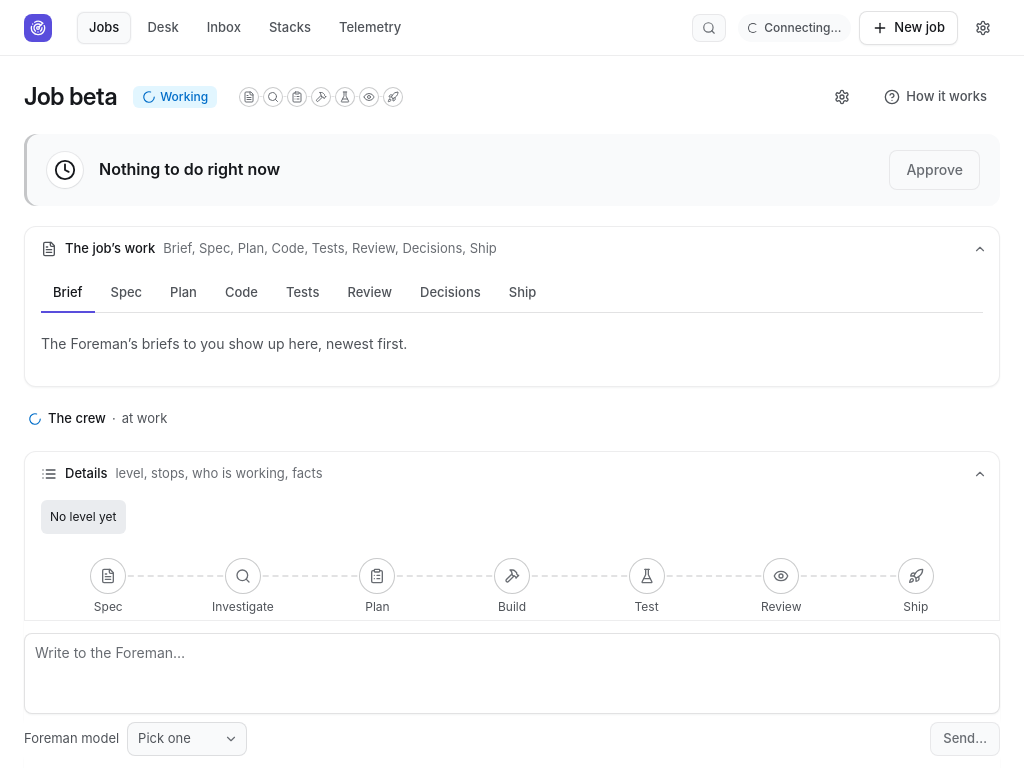
Test case: App shell › shows a job full width: the Job page with its seven stops, no Jobs or Preview pane
Expected: the heading "Job beta" is shown, [24,82,117,112]
Expected: the links read "Jobs", "Desk", "Inbox", "Stacks", "Telemetry", in this order, [76,10,132,44]; [147,19,179,35]; [207,19,241,35]; [269,19,311,35]; [339,19,401,35]
# The gear: Settings, the Crew-dex in Play, the flow map, the Table, the keys and every action.
Click the button named "Settings and more": (983, 28) [966,10,1000,44]
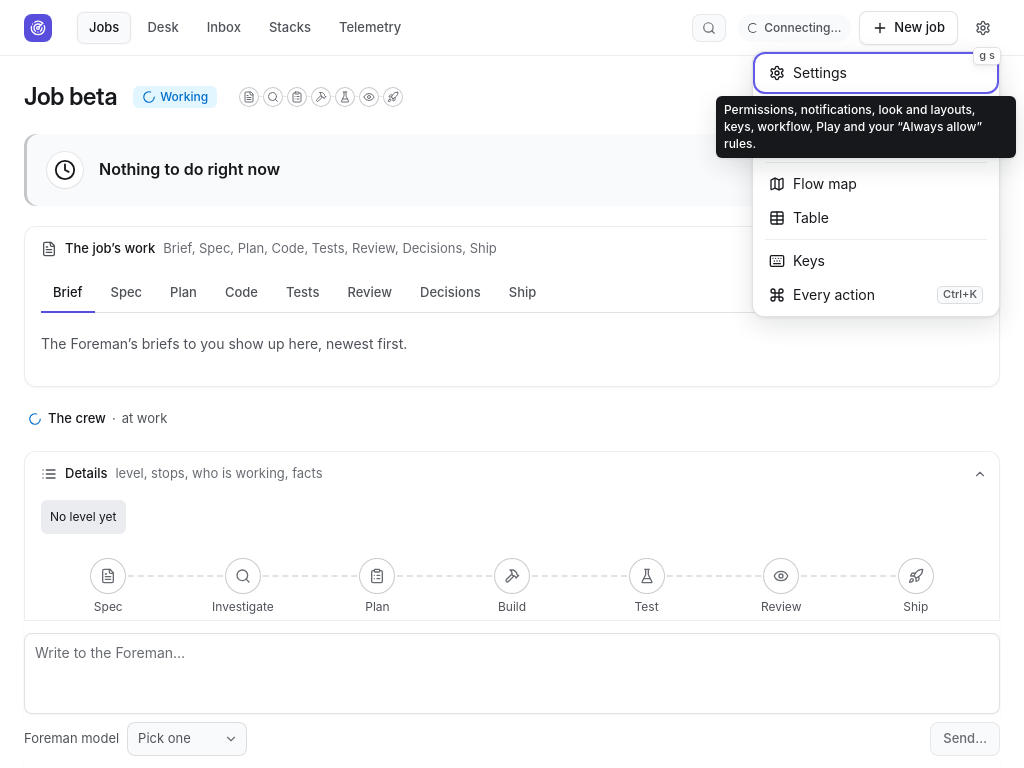
Press g
Press t
Press Escape in the menu named "Settings and more", box [752,50,1000,316]
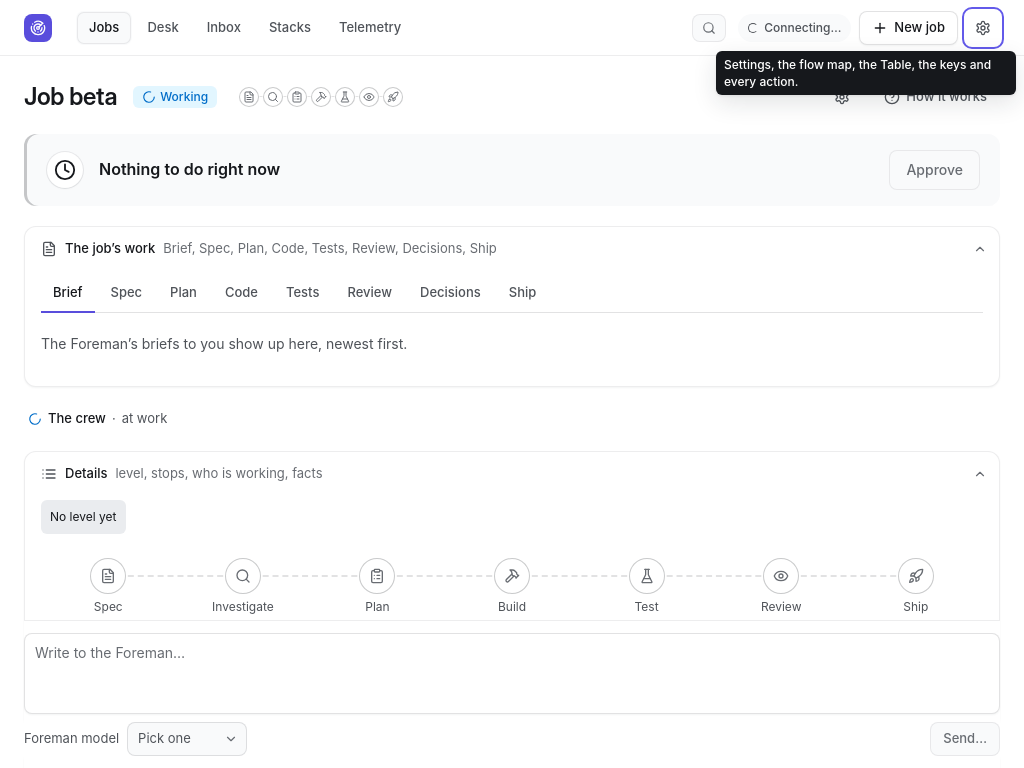
Now the menu is gone
